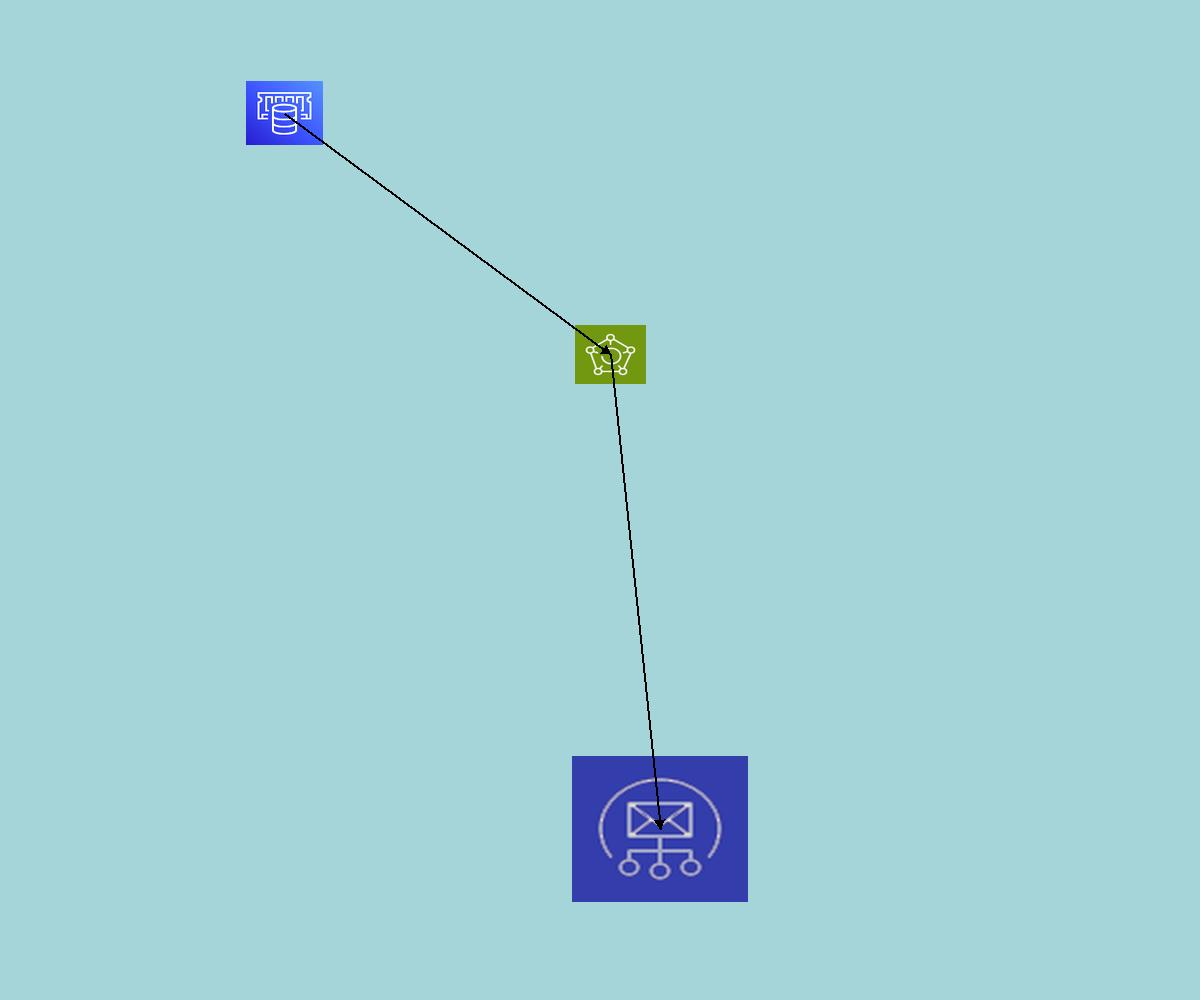AWS-Backup: (575, 325, 646, 384)
AWS-ElastiCache: (246, 81, 323, 145)
AWS-Simple-Email-Service: (572, 756, 748, 902)
